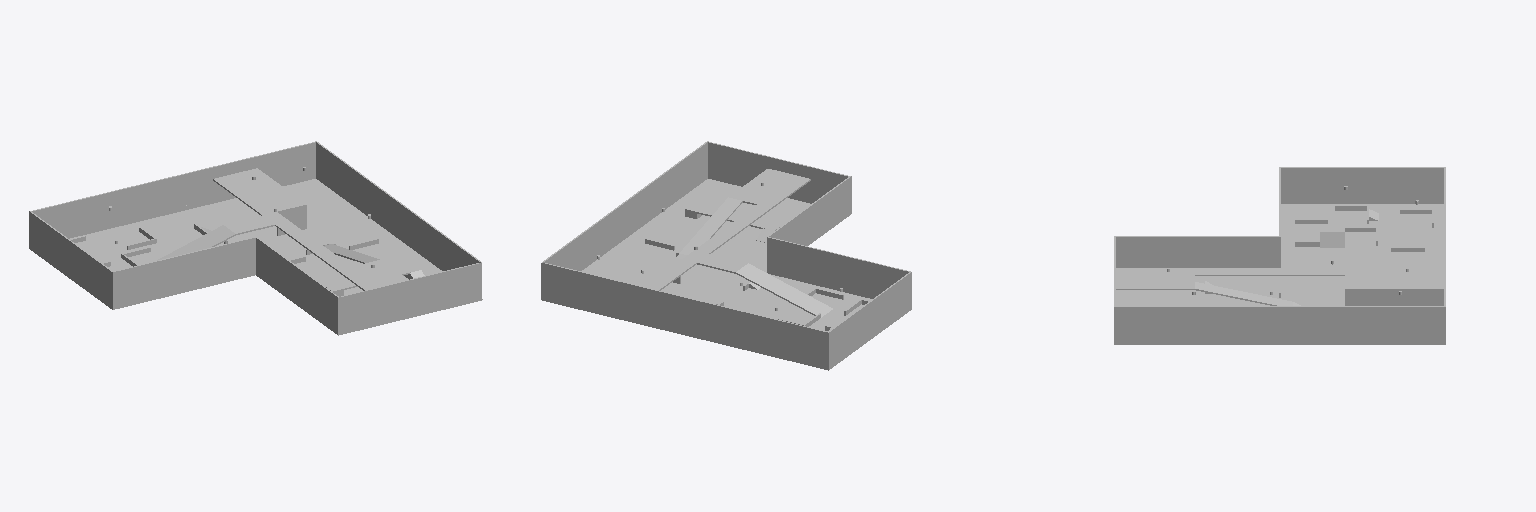
The model's file is Level1.obj.
3 views of the same model, side by side, from view 1: azimuth 30°, elevation 25°; view 2: azimuth 150°, elevation 25°; view 3: azimuth 270°, elevation 25° (orthographic).
Parts seen in each view (by area): view 1: pCube65, pCube67, pCube3, Wall1:pCube1, Wall:pCube1, pCube56, pCube58, Wall2:pCube1, pCube57, pCube1, pCube5, pCube68 (+1 smaller); view 2: pCube65, Wall:pCube1, pCube56, pCube68, Wall1:pCube1, pCube67, pCube3, Wall2:pCube1, pCube5, pCube58, pCube57, Floor2:pCube1 (+1 smaller); view 3: pCube65, pCube5, pCube57, Wall2:pCube1, Floor2:pCube1, pCube58, pCube68, pCube1, pCube67, pCube37.
Boxes of the visible parts, <box> form: pCube65: <box>157,168,407,290</box>; pCube67: <box>173,179,397,263</box>; pCube3: <box>337,263,481,335</box>; Wall1:pCube1: <box>112,237,255,308</box>; Wall:pCube1: <box>29,176,174,247</box>; pCube56: <box>173,142,315,212</box>; pCube58: <box>255,236,339,334</box>; Wall2:pCube1: <box>29,211,113,309</box>; pCube57: <box>315,141,398,237</box>; pCube1: <box>72,214,201,270</box>; pCube5: <box>398,202,481,270</box>; pCube68: <box>257,239,482,333</box>; pCube65: <box>614,169,832,317</box>; Wall:pCube1: <box>684,297,829,369</box>; pCube56: <box>541,263,685,333</box>; pCube68: <box>627,179,848,272</box>; Wall1:pCube1: <box>767,237,910,298</box>; pCube67: <box>541,238,748,335</box>; pCube3: <box>708,142,851,213</box>; Wall2:pCube1: <box>827,272,911,368</box>; pCube5: <box>625,141,708,237</box>; pCube58: <box>767,176,851,245</box>; pCube57: <box>542,202,625,270</box>; Floor2:pCube1: <box>686,275,911,370</box>; pCube65: <box>1116,232,1443,305</box>; pCube5: <box>1114,306,1280,342</box>; pCube57: <box>1279,306,1445,342</box>; Wall2:pCube1: <box>1281,167,1443,203</box>; Floor2:pCube1: <box>1281,204,1443,267</box>; pCube58: <box>1114,236,1280,267</box>; pCube68: <box>1114,276,1280,344</box>; pCube1: <box>1281,204,1443,267</box>; pCube67: <box>1279,276,1445,344</box>; pCube37: <box>1347,291,1383,305</box>.
Bounding box in the file's own units: 199 × 25.5 × 199.